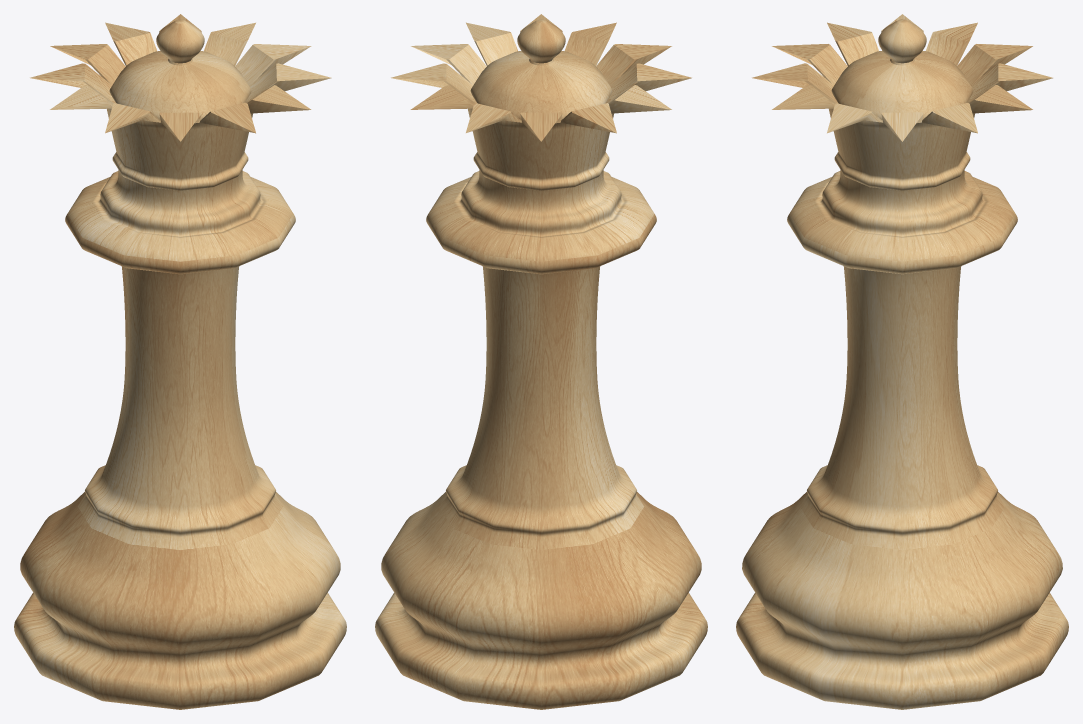
File: queen.gltf
3 views of the same model, side by side, from view 1: azimuth 30°, elevation 25°; view 2: azimuth 150°, elevation 25°; view 3: azimuth 270°, elevation 25° (orthographic).
Parts seen in each view (by area): view 1: mesh01; view 2: mesh01; view 3: mesh01.
Part boxes in pixels (box(x1,y1,x2,y2)): mesh01: box(14, 14, 346, 709); mesh01: box(375, 14, 707, 709); mesh01: box(736, 14, 1068, 709).
Size of the model in its own units: 14.93 by 30.95 by 14.93.
Materials: 1 (1 with a texture image).
